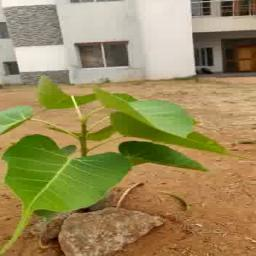LEAVS: (0, 74, 217, 217)
